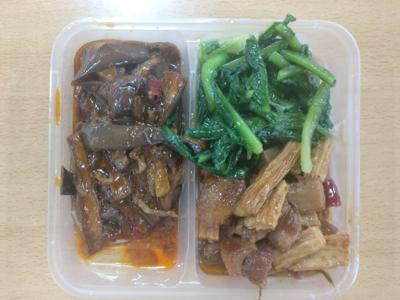sqz: (70, 35, 186, 280)
ymc: (191, 30, 344, 164)
